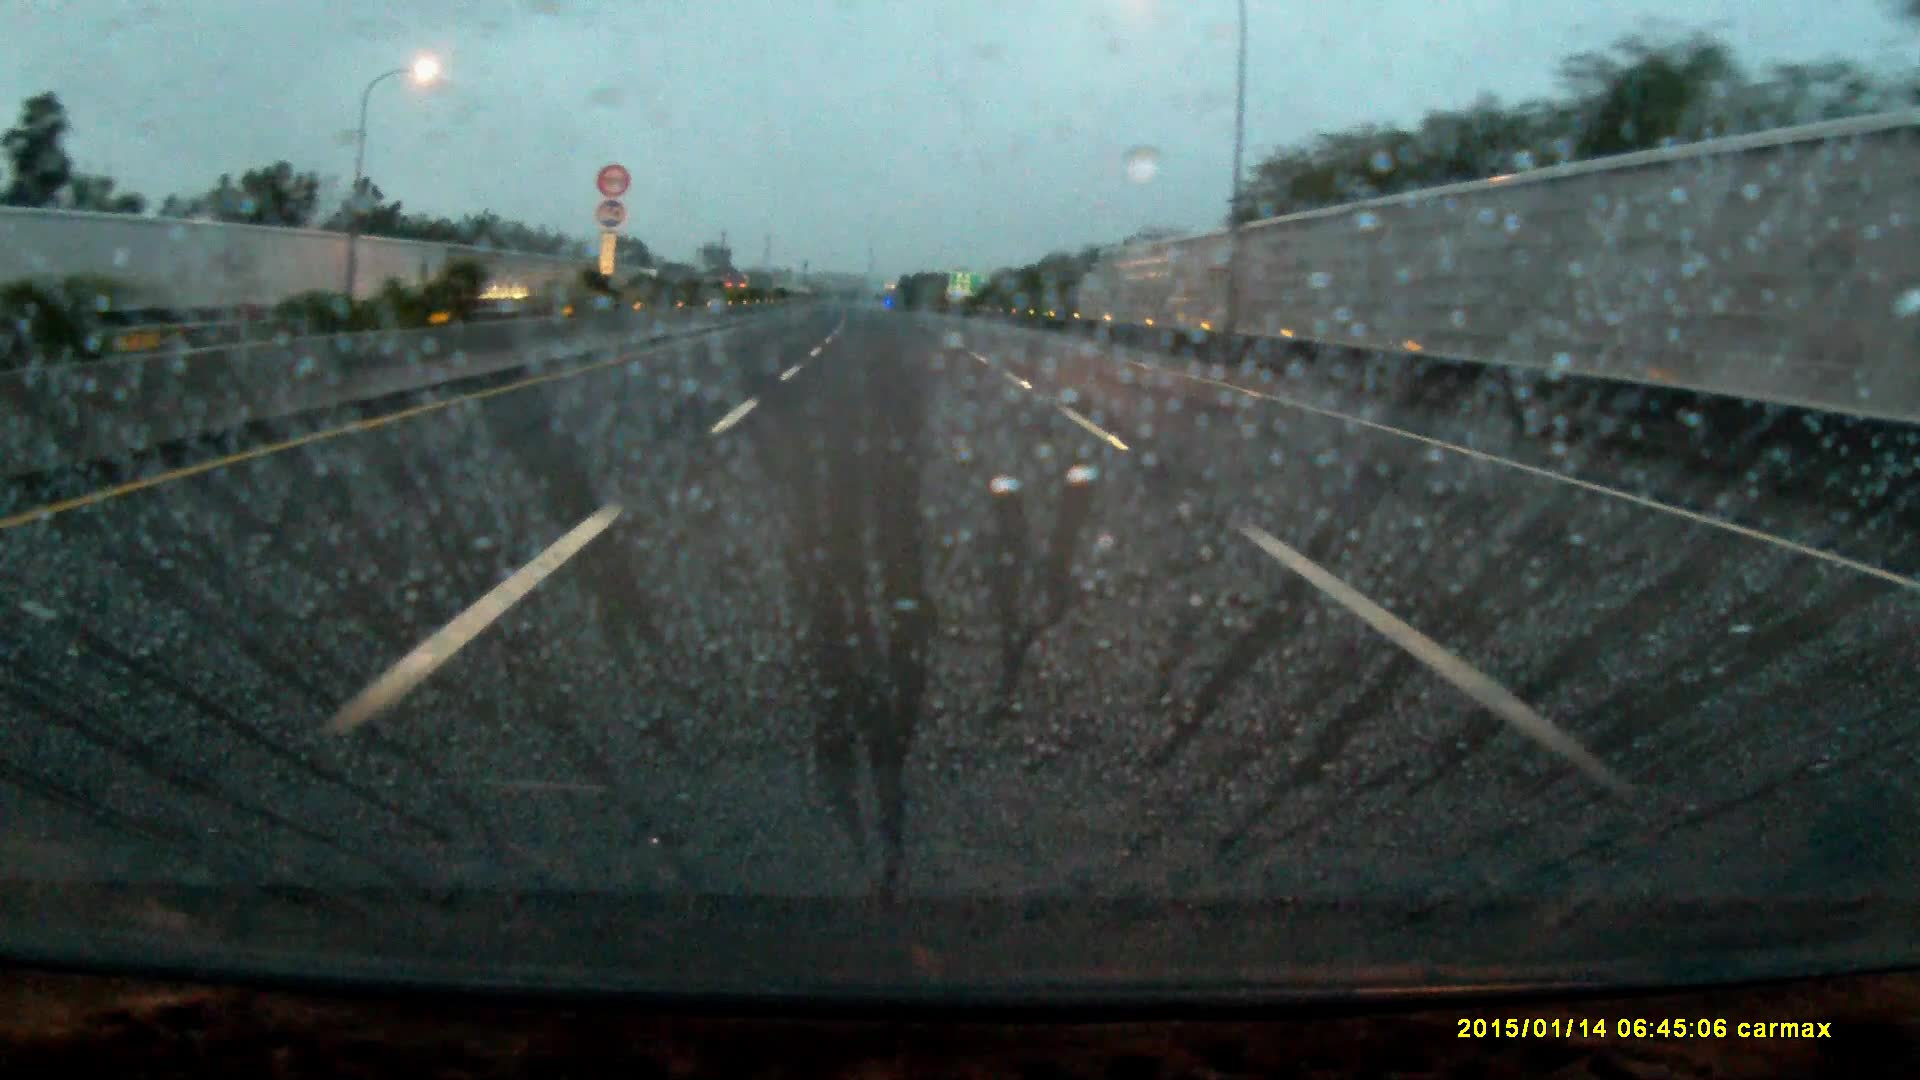vehicle: (727, 281, 754, 307)
